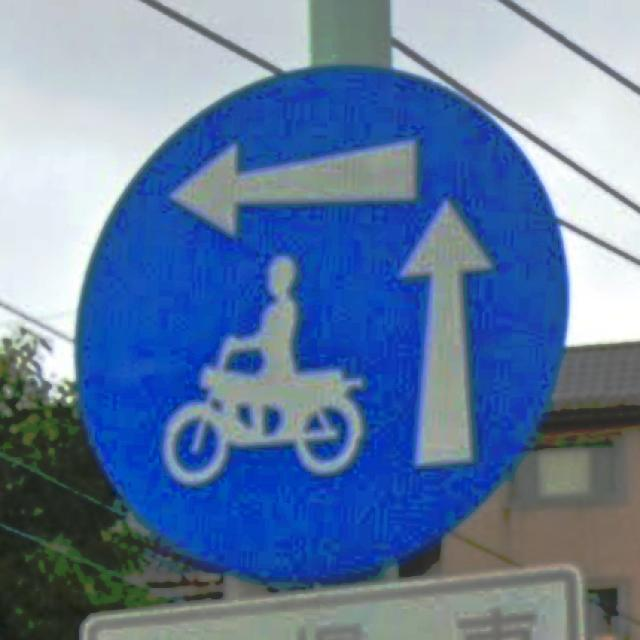twostageturn: (74, 65, 570, 583)
